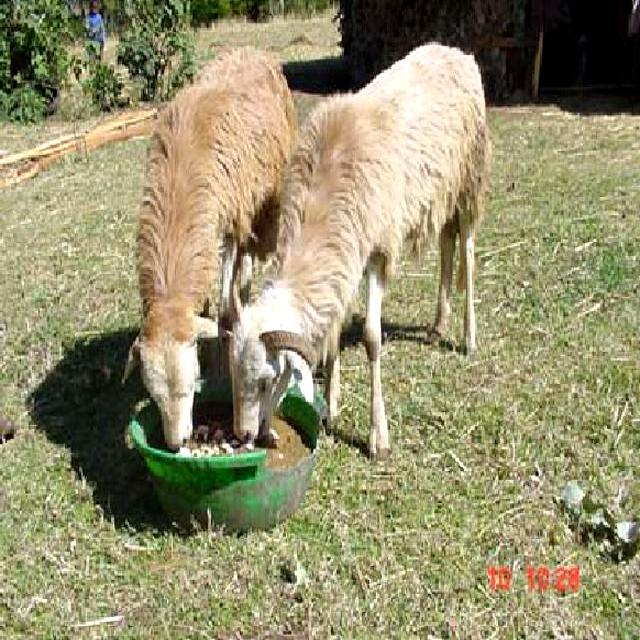sheep: (227, 40, 489, 456), (119, 42, 296, 444)
